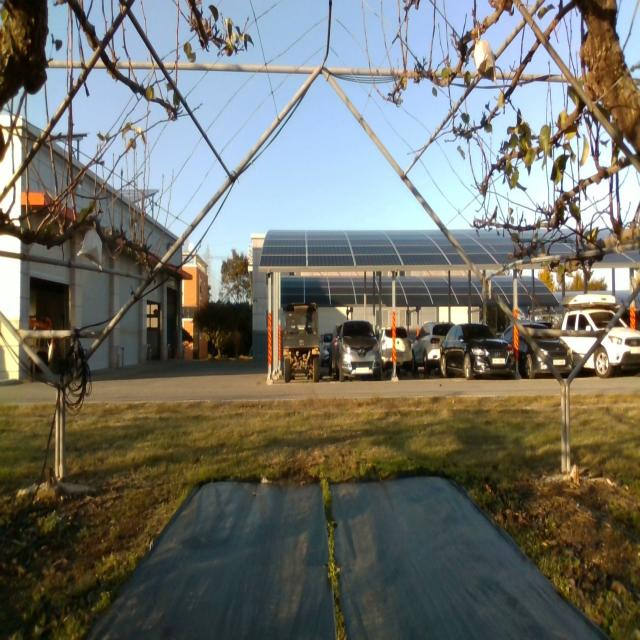pearbags: (76, 221, 102, 271), (474, 28, 496, 82)
